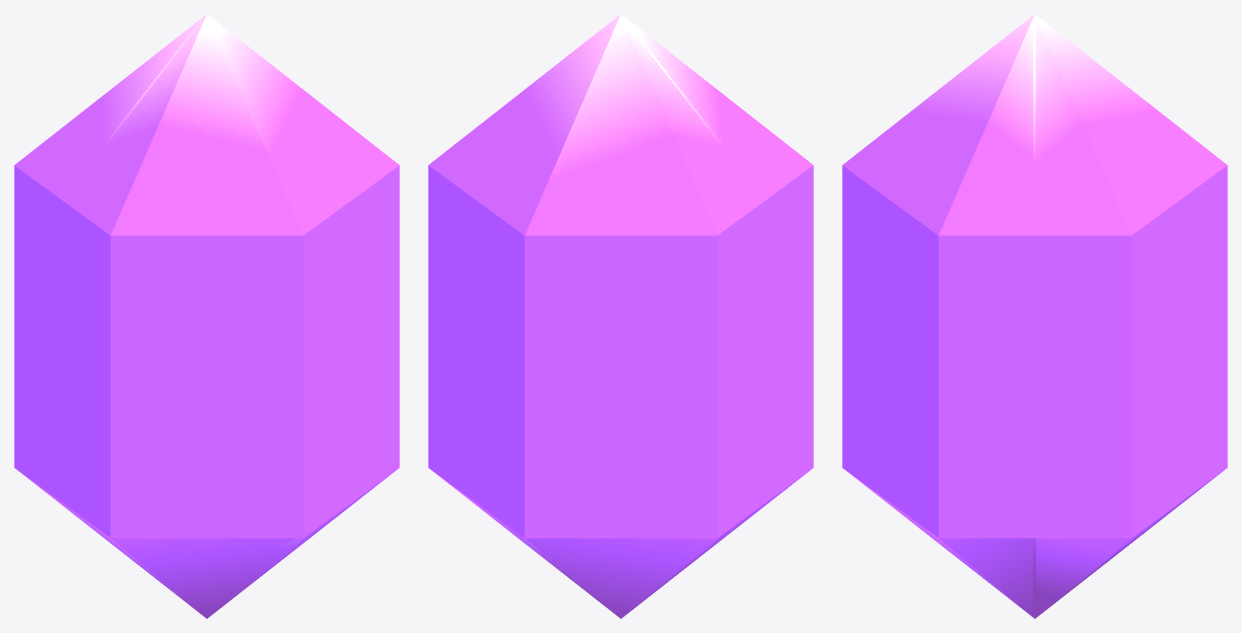
File: mendiane.glb
3 views of the same model, side by side, from view 1: azimuth 30°, elevation 25°; view 2: azimuth 150°, elevation 25°; view 3: azimuth 270°, elevation 25° (orthographic).
Visible parts, largest first — view 1: gem_base_0; view 2: gem_base_0; view 3: gem_base_0.
Part boxes in pixels (x1=…): gem_base_0: x1=14, y1=14, x2=399, y2=618; gem_base_0: x1=428, y1=14, x2=813, y2=618; gem_base_0: x1=842, y1=14, x2=1227, y2=618.
Size of the model in its own units: 0.5201 by 1.04 by 0.6006.
1 material, 1 textured.
